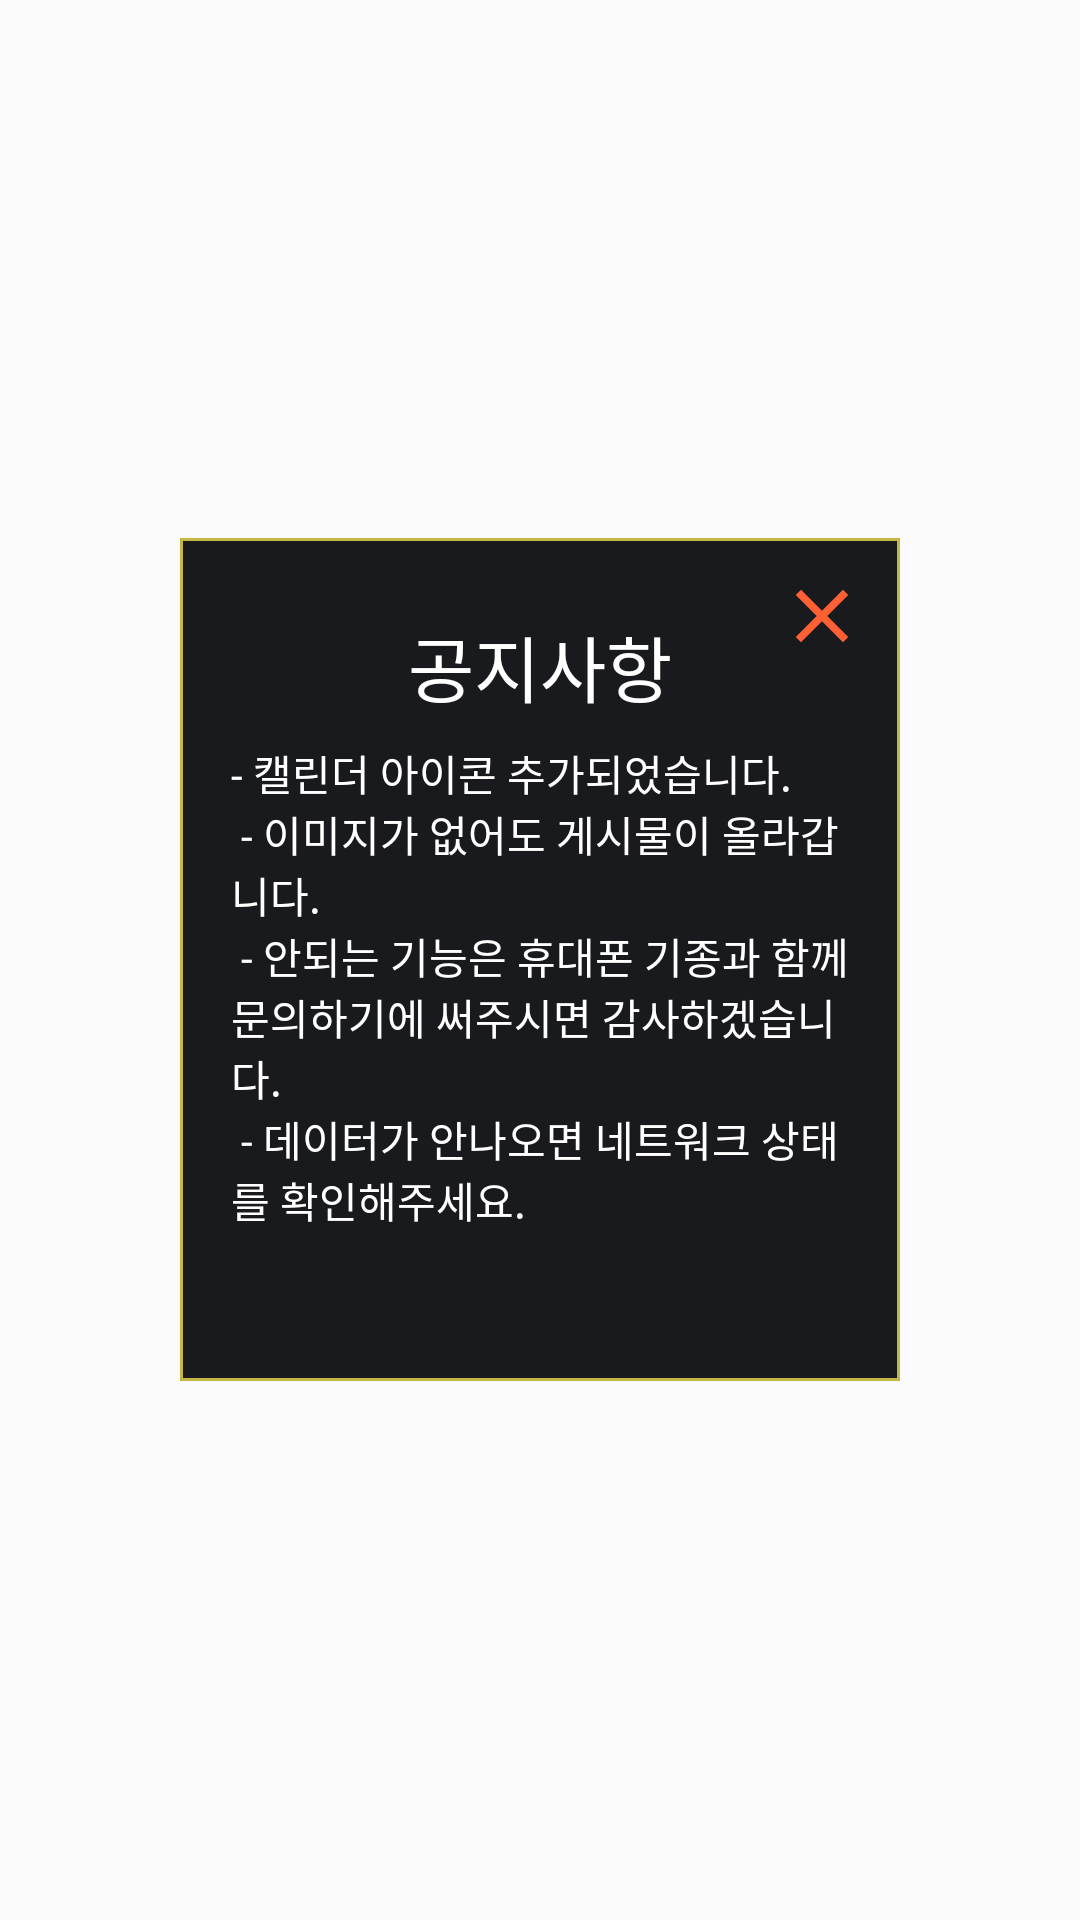

Where to tap for icons on this 1080w x 1920h app screen, as [x,y]:
close: [822,616]
